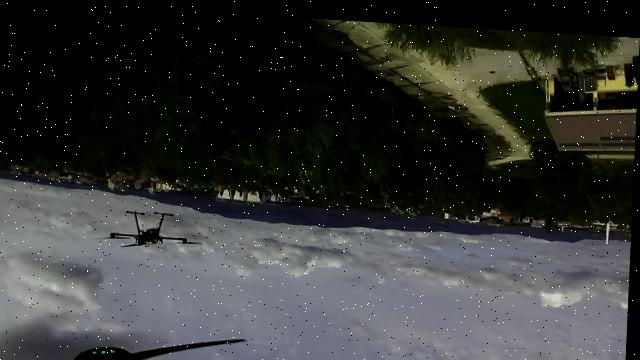drone: (81, 189, 216, 265)
